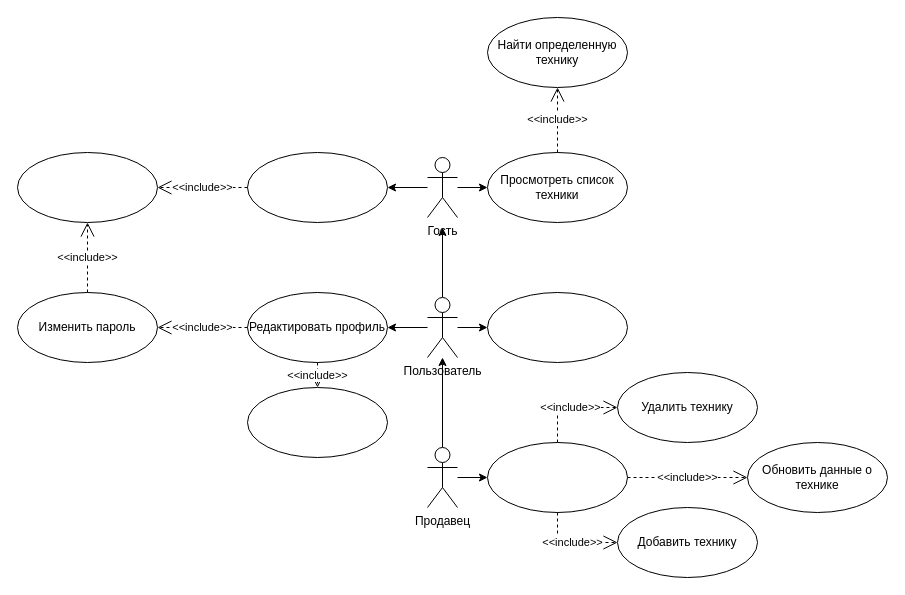
This 905x595 diagram has some shape labels left out. The centre of each missing label's shape, as x and y in pixels:
"Авторизация" belongs at (317,187).
"Выйти из аккаунта" belongs at (317,422).
"Купить часы в зале" belongs at (557,327).
"Подтверждение телефона" belongs at (87,187).
"Работа с техникой" belongs at (557,477).
